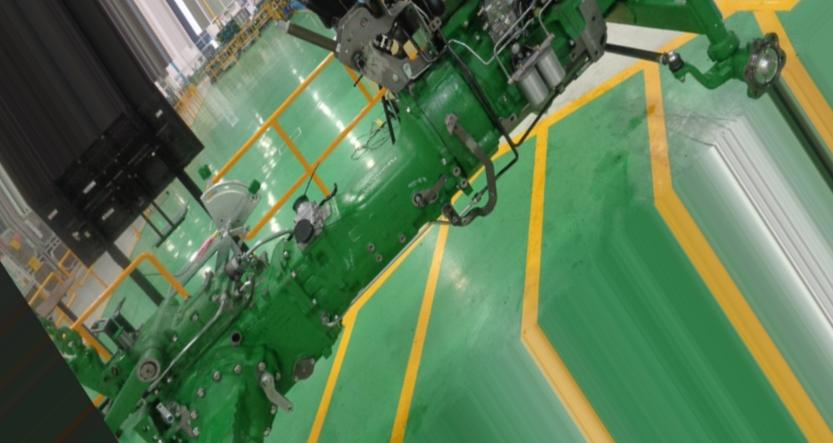engine: (62, 0, 790, 443)
